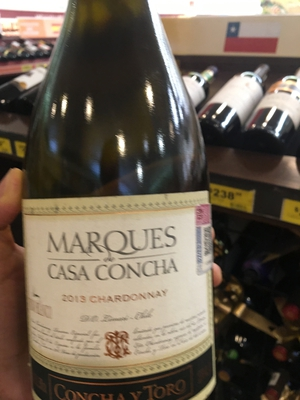marques de casa concha chardonnay: (17, 18, 222, 400)
